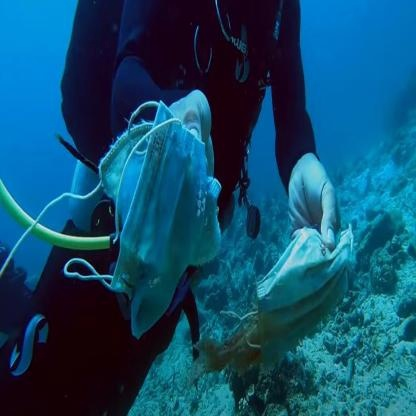Mask: (111, 101, 221, 343), (258, 228, 352, 367), (97, 100, 166, 208)
